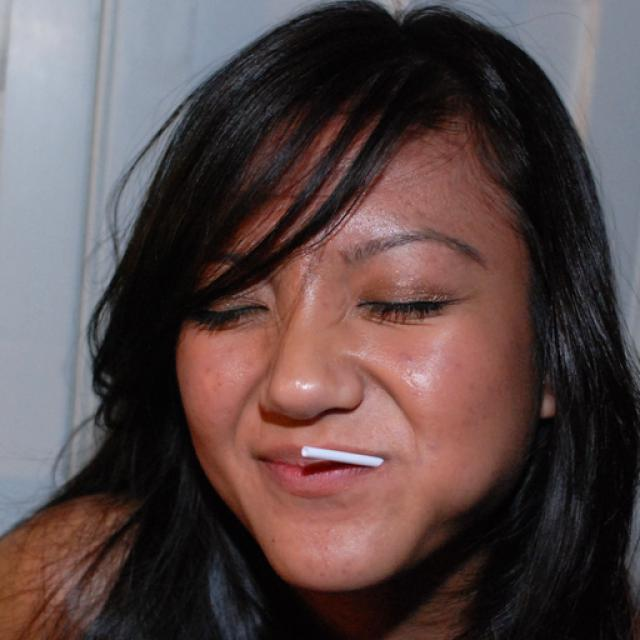disgust: (172, 60, 536, 592)
